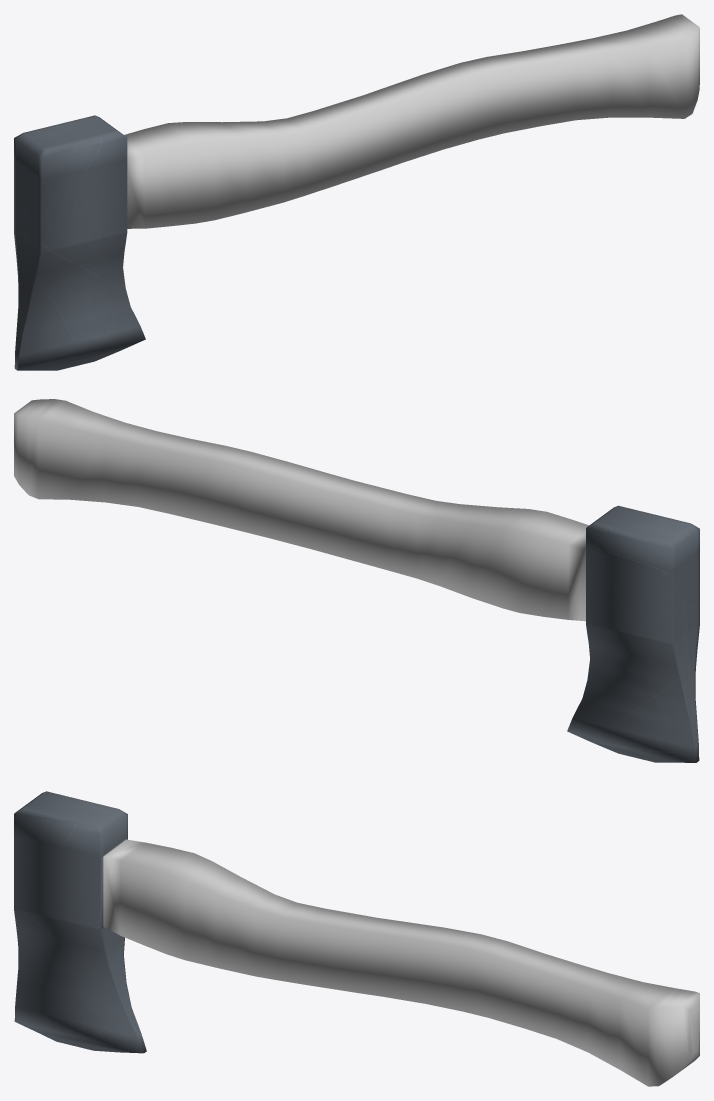
File: mdl_axt 1.fbx
The picture shows the model from 3 angles, top to bottom: view 1: azimuth 30°, elevation 25°; view 2: azimuth 150°, elevation 25°; view 3: azimuth 330°, elevation 25°; orthographic projection.
Visible parts, largest first — view 1: axe; view 2: axe; view 3: axe.
Part boxes in pixels (left/top/right/bottom): axe: left=14, top=14, right=699, bottom=370; axe: left=14, top=399, right=699, bottom=762; axe: left=14, top=791, right=699, bottom=1086.
Bounding box in the file's own units: 518 × 170 × 45.52.
